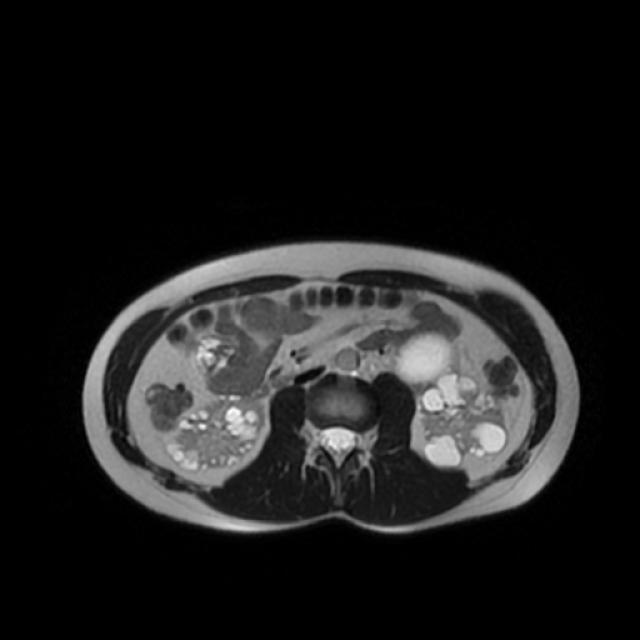sag: (165, 395, 267, 472)
sol: (391, 334, 510, 466)
